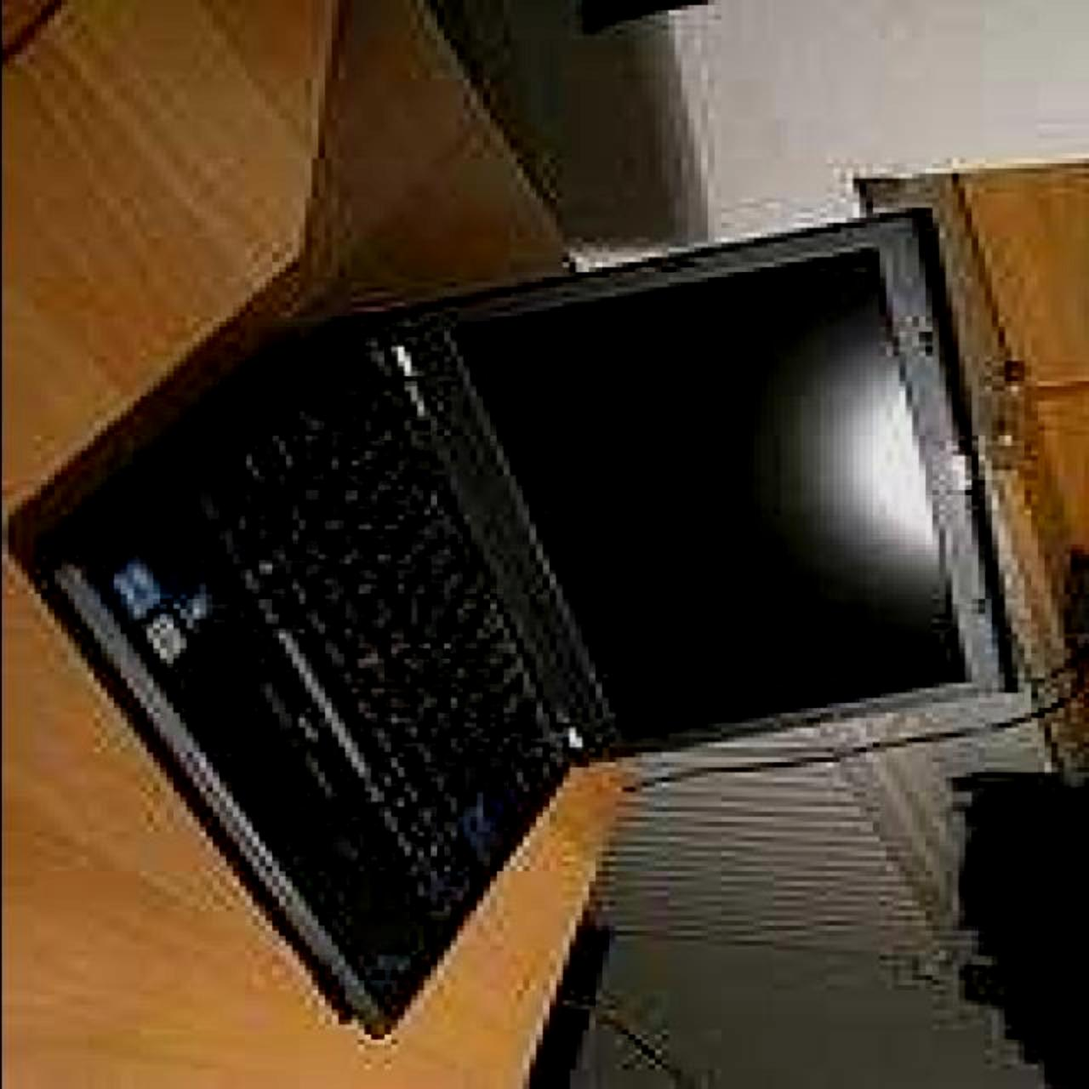laptop: (100, 191, 1020, 1052)
